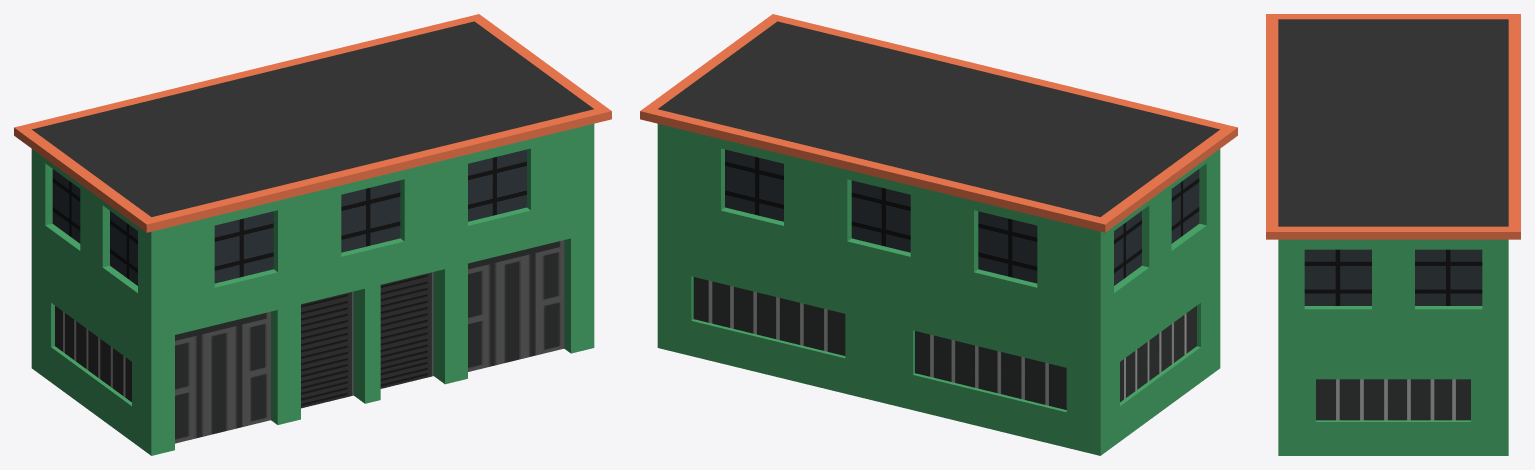
The model's file is building5a.FBX.
The picture shows the model from 3 angles, left to right: view 1: azimuth 30°, elevation 25°; view 2: azimuth 150°, elevation 25°; view 3: azimuth 270°, elevation 25°; orthographic projection. The views are drawn at different scales.
Visible parts, largest first — view 1: building5a; view 2: building5a; view 3: building5a.
Part boxes in pixels (<box>): building5a: <box>14,14,611,455</box>; building5a: <box>640,14,1237,455</box>; building5a: <box>1266,14,1520,455</box>.
Bounding box in the file's own units: 21.11 × 10.36 × 10.43.
